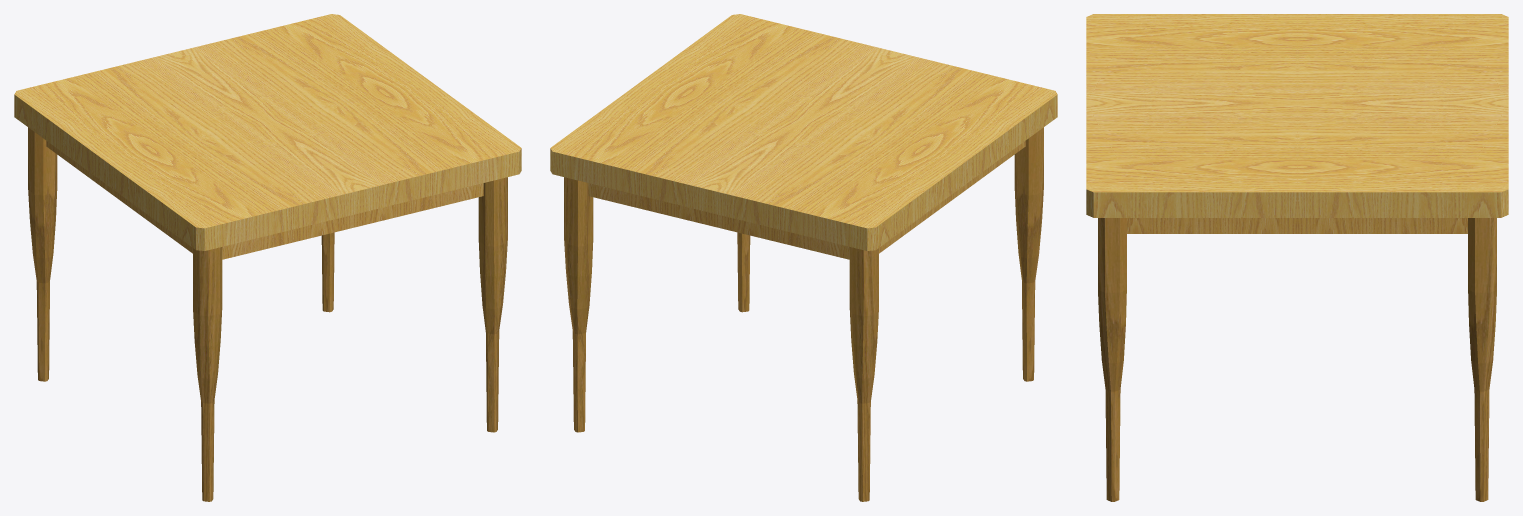
Rendered from table.FBX.
The picture shows the model from 3 angles, left to right: view 1: azimuth 30°, elevation 25°; view 2: azimuth 150°, elevation 25°; view 3: azimuth 270°, elevation 25°; orthographic projection. The views are drawn at different scales.
Visible parts, largest first — view 1: Box001; view 2: Box001; view 3: Box001.
Part boxes in pixels (left/top/right/bottom): Box001: left=14, top=14, right=521, bottom=501; Box001: left=550, top=14, right=1057, bottom=501; Box001: left=1086, top=14, right=1508, bottom=501.
Size of the model in its own units: 30 by 24.96 by 30.
